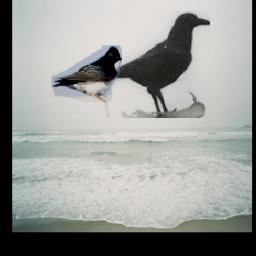Crow: (94, 12, 210, 119)
Swallow: (53, 45, 123, 102)
